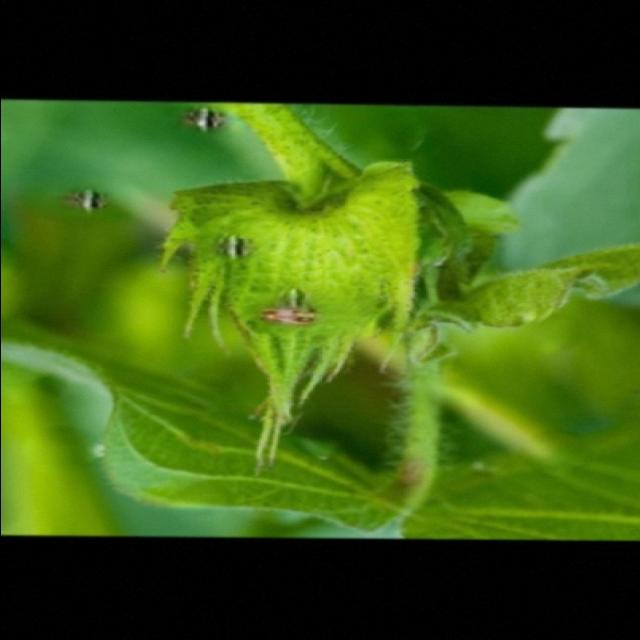Cotton Bud: (130, 158, 444, 430)
